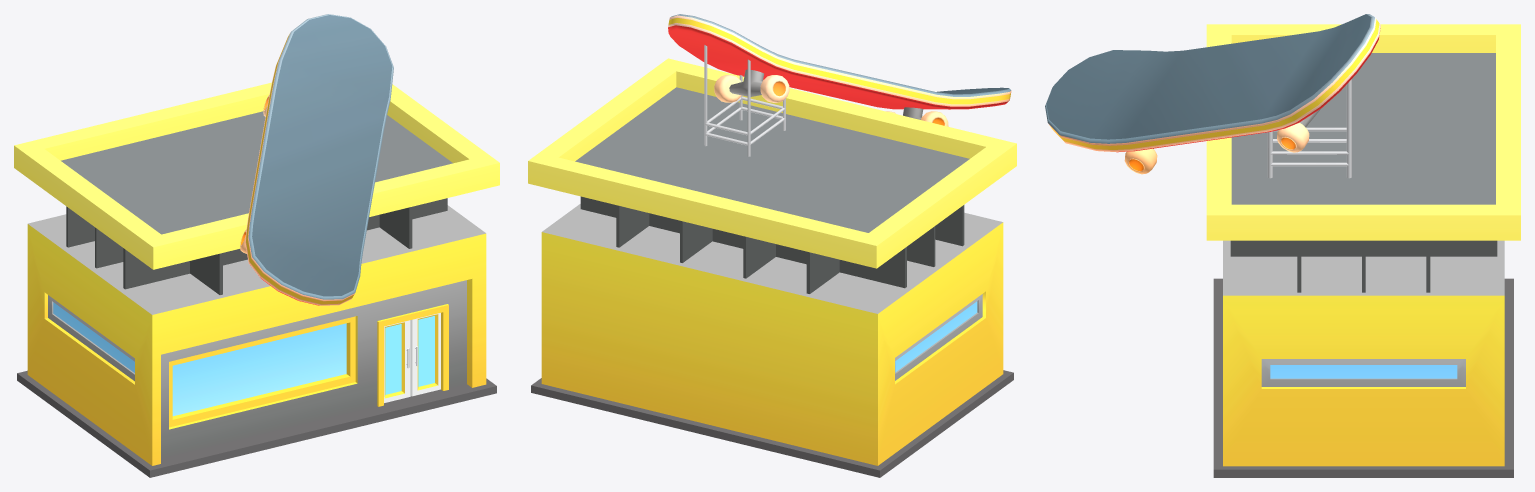
The model's file is city2-building-service-03.glb.
3 views of the same model, side by side, from view 1: azimuth 30°, elevation 25°; view 2: azimuth 150°, elevation 25°; view 3: azimuth 270°, elevation 25° (orthographic). The views are drawn at different scales.
Visible parts, largest first — view 1: Building_Service_03; view 2: Building_Service_03; view 3: Building_Service_03.
Part boxes in pixels (bbox=[...]): Building_Service_03: bbox=[14, 14, 499, 477]; Building_Service_03: bbox=[528, 14, 1016, 477]; Building_Service_03: bbox=[1045, 14, 1520, 477].
Size of the model in its own units: 9.86 by 9.56 by 10.39.
1 material, 1 textured.
